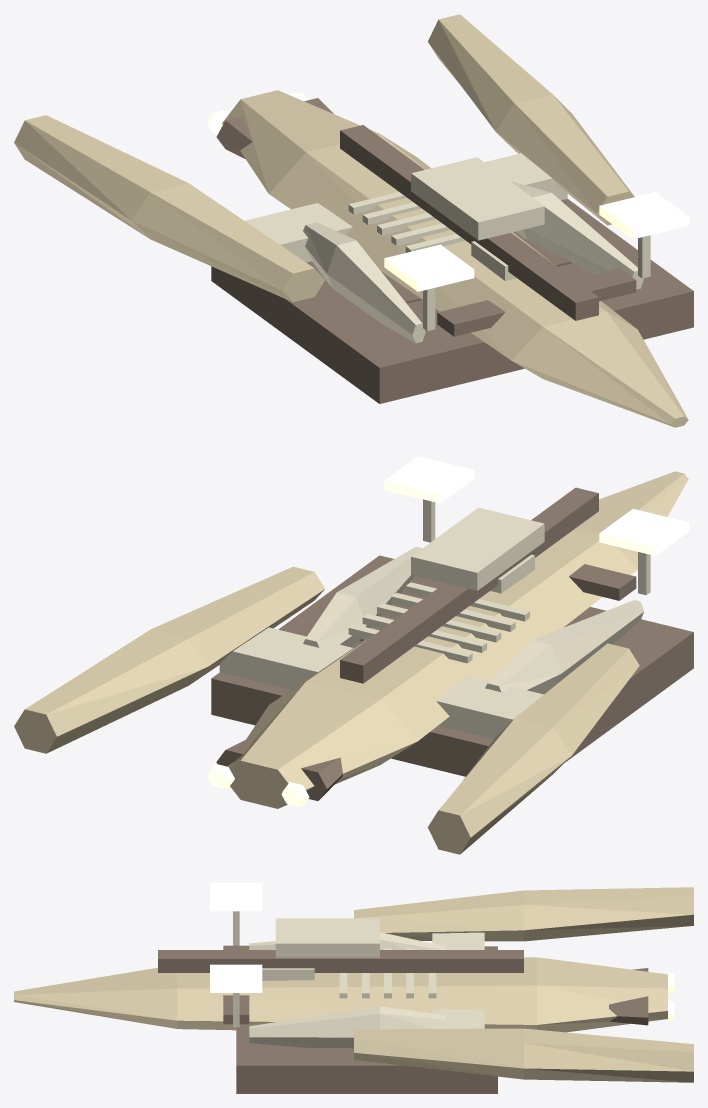
3 renders of one model, top to bottom at view 1: azimuth 30°, elevation 25°; view 2: azimuth 150°, elevation 25°; view 3: azimuth 270°, elevation 25°, orthographic. The views are drawn at different scales.
Size of the model in its own units: 6.46 by 1.8 by 10.71.
